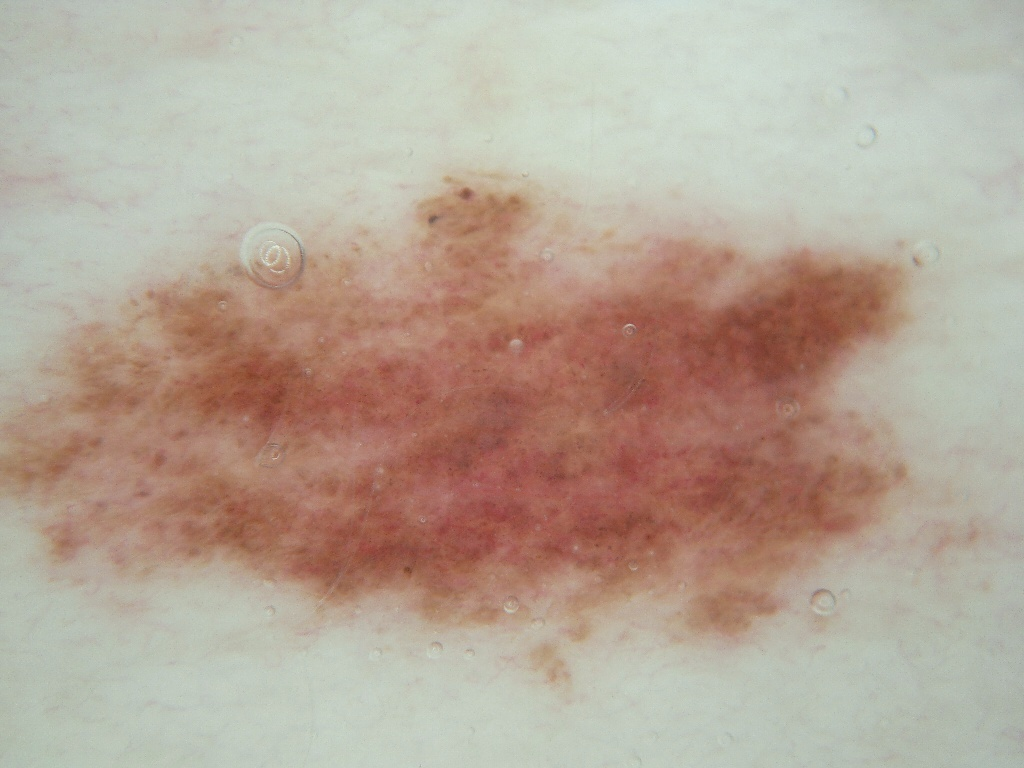Detected Lesion: (1, 162, 944, 689)
